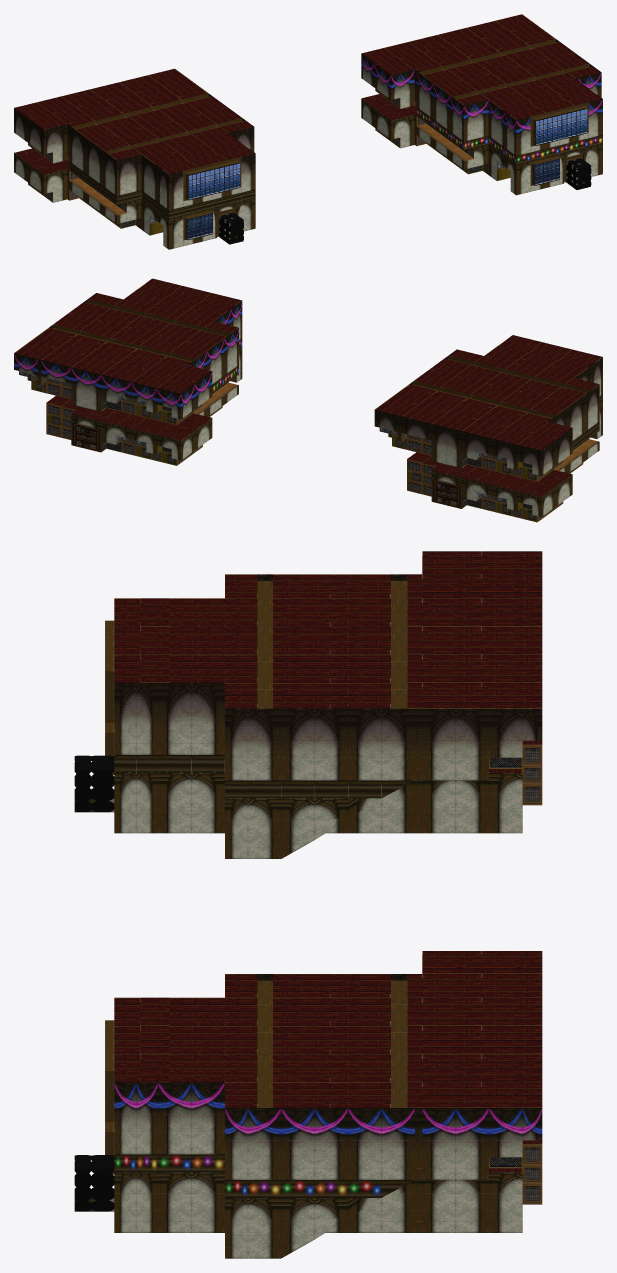
The picture shows the model from 3 angles, top to bottom: view 1: azimuth 30°, elevation 25°; view 2: azimuth 150°, elevation 25°; view 3: azimuth 270°, elevation 25°; orthographic projection. The views are drawn at different scales.
Parts seen in each view (by area): view 1: T1L3M002_70, T1L3M002_144, T1L3M002_132, T1L3M002_56, T1L3M002_156, T1L3M002_164, T1L3M002_158, T1L3M002_166, T1L3M002_157, T1L3M002_165, T1L3M002_154, T1L3M002_162 (+82 smaller); view 2: T1L3M002_6, T1L3M002_19, T1L3M002_21, T1L3M002_8, T1L3M002_17, T1L3M002_23, T1L3M002_10, T1L3M002_4, T1L3M002_7, T1L3M002_20, T1L3M002_15, T1L3M002_2 (+68 smaller); view 3: T1L3M002_66, T1L3M002_80, T1L3M002_139, T1L3M002_151, T1L3M002_92, T1L3M002_104, T1L3M002_39, T1L3M002_150, T1L3M002_52, T1L3M002_138, T1L3M002_117, T1L3M002_129 (+88 smaller).
Part boxes in pixels (bbox=[...]): T1L3M002_70: bbox=[400, 64, 461, 118]; T1L3M002_144: bbox=[474, 93, 537, 147]; T1L3M002_132: bbox=[126, 147, 190, 201]; T1L3M002_56: bbox=[53, 118, 114, 173]; T1L3M002_156: bbox=[183, 155, 226, 206]; T1L3M002_164: bbox=[530, 101, 573, 152]; T1L3M002_158: bbox=[212, 148, 255, 199]; T1L3M002_166: bbox=[559, 94, 602, 145]; T1L3M002_157: bbox=[183, 200, 212, 246]; T1L3M002_165: bbox=[530, 145, 559, 191]; T1L3M002_154: bbox=[158, 162, 197, 210]; T1L3M002_162: bbox=[505, 108, 544, 155]; T1L3M002_6: bbox=[432, 412, 481, 468]; T1L3M002_19: bbox=[71, 355, 121, 411]; T1L3M002_21: bbox=[41, 348, 86, 407]; T1L3M002_8: bbox=[402, 405, 447, 464]; T1L3M002_17: bbox=[101, 363, 151, 418]; T1L3M002_23: bbox=[14, 341, 61, 396]; T1L3M002_10: bbox=[375, 398, 421, 453]; T1L3M002_4: bbox=[462, 419, 511, 475]; T1L3M002_7: bbox=[446, 465, 490, 508]; T1L3M002_20: bbox=[86, 408, 129, 452]; T1L3M002_15: bbox=[131, 370, 185, 424]; T1L3M002_2: bbox=[492, 427, 545, 481]; T1L3M002_66: bbox=[348, 708, 422, 780]; T1L3M002_80: bbox=[348, 1108, 422, 1179]; T1L3M002_139: bbox=[158, 755, 224, 833]; T1L3M002_151: bbox=[158, 1154, 224, 1232]; T1L3M002_92: bbox=[281, 708, 348, 780]; T1L3M002_104: bbox=[281, 1108, 348, 1179]; T1L3M002_39: bbox=[422, 708, 488, 780]; T1L3M002_150: bbox=[158, 1082, 224, 1154]; T1L3M002_52: bbox=[422, 1108, 488, 1179]; T1L3M002_138: bbox=[158, 683, 224, 754]; T1L3M002_117: bbox=[225, 780, 281, 858]; T1L3M002_129: bbox=[225, 1180, 281, 1258].
Bounding box in the file's own units: 70.25 × 13.94 × 28.
